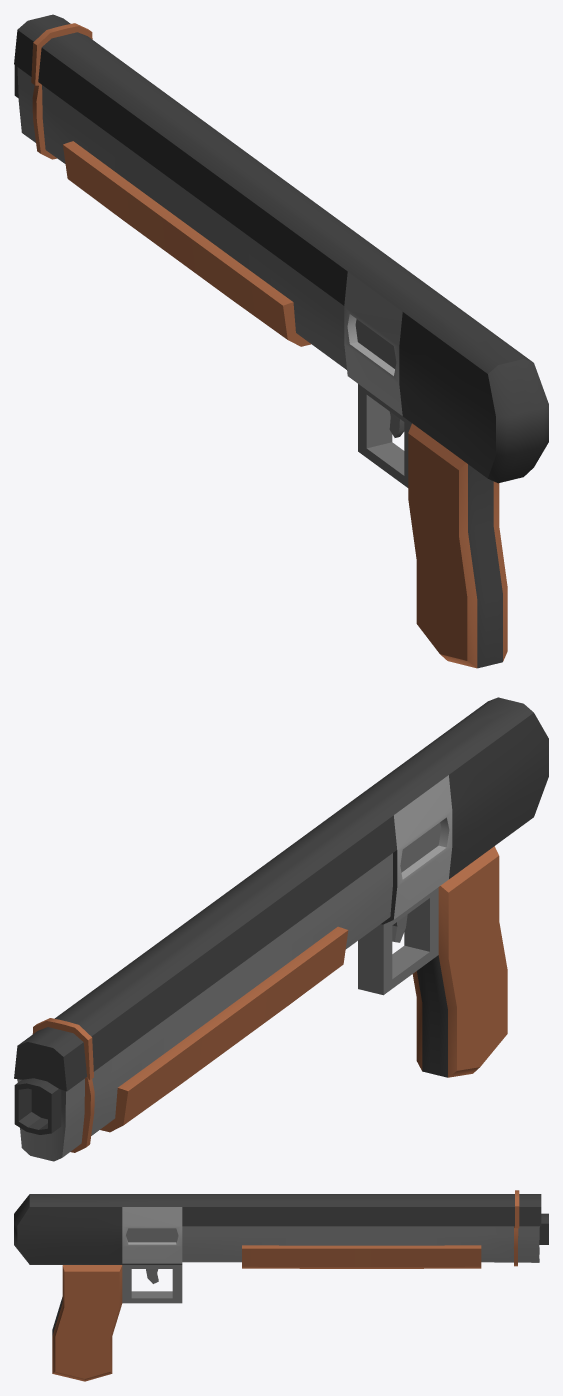
The model's file is shotgun.fbx.
3 views of the same model, one above another, from view 1: azimuth 30°, elevation 25°; view 2: azimuth 150°, elevation 25°; view 3: azimuth 270°, elevation 25° (orthographic). The views are drawn at different scales.
Visible parts, largest first — view 1: Shotgun; view 2: Shotgun; view 3: Shotgun.
Boxes of the visible parts, bbox=[...] form: Shotgun: bbox=[14, 14, 548, 668]; Shotgun: bbox=[14, 697, 548, 1161]; Shotgun: bbox=[14, 1190, 548, 1381].
Size of the model in its own units: 0.1016 by 0.5037 by 1.32.
